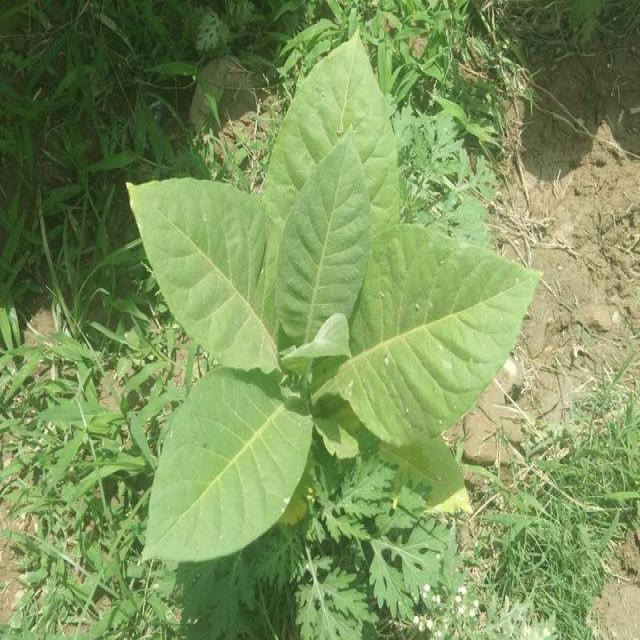crop: (121, 34, 534, 567)
